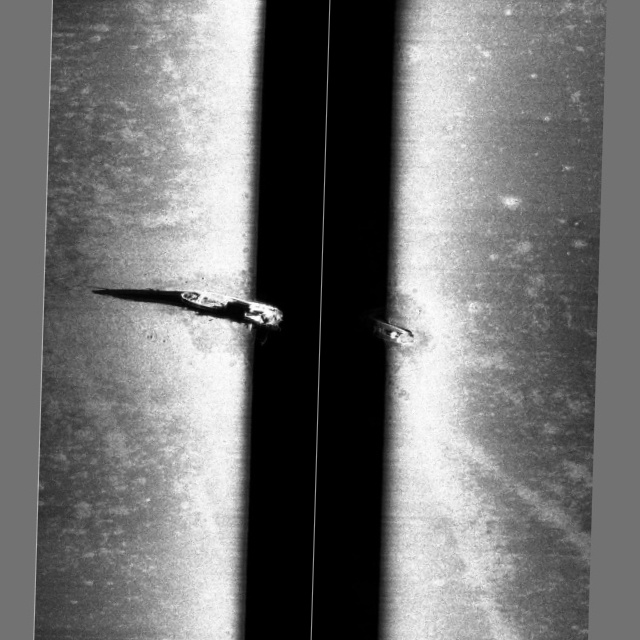Shipwreck: (179, 289, 415, 351)
